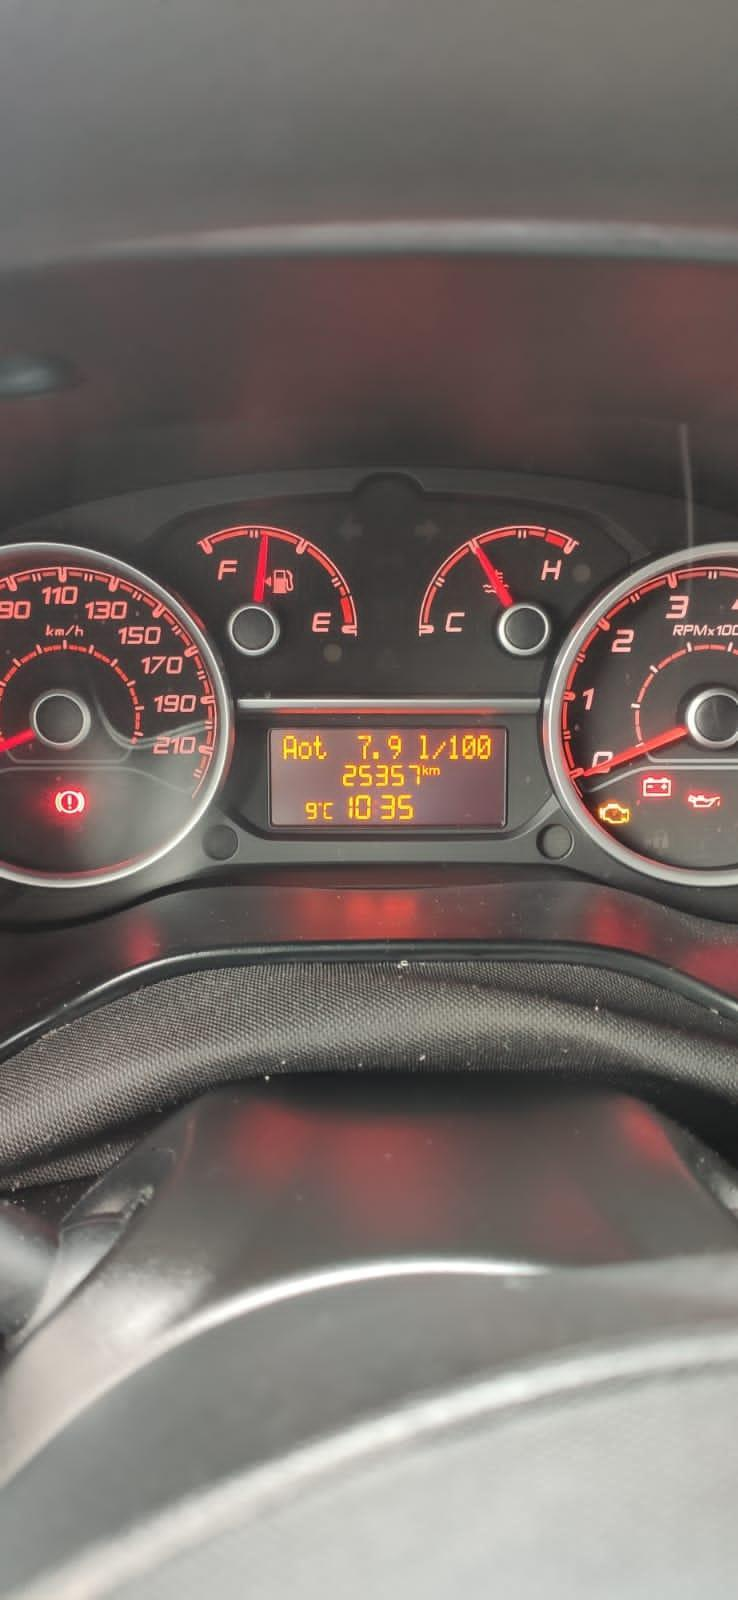,: (372, 751, 379, 760)
0: (475, 733, 492, 760), (354, 793, 371, 820), (461, 733, 476, 760)
1: (448, 734, 459, 760), (347, 795, 354, 819)
2: (341, 763, 357, 786)
3: (379, 794, 395, 820), (374, 764, 388, 786)
5: (396, 794, 413, 819), (390, 764, 404, 786), (357, 764, 372, 786)
7: (356, 734, 372, 760), (407, 763, 421, 785)
9: (385, 734, 402, 760), (304, 801, 317, 820)
X: (282, 734, 297, 760), (312, 734, 328, 760), (297, 740, 312, 760), (431, 740, 445, 760), (419, 733, 429, 760), (322, 801, 334, 819), (429, 766, 440, 776), (421, 765, 428, 776)
odometer: (264, 723, 511, 832)
